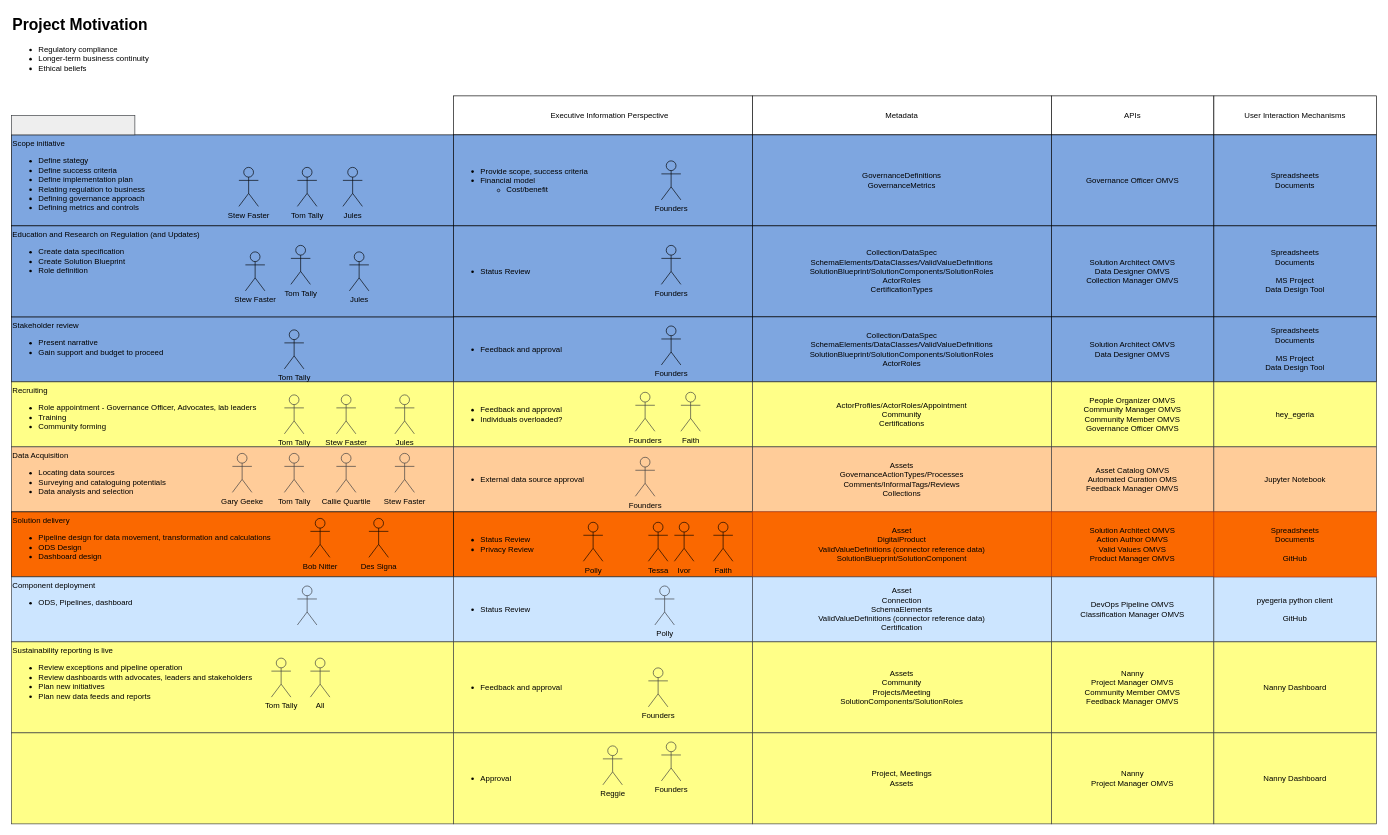
Some shapes in this 1388 by 835 pixel diagram are drawn without their labels. Each missing label, with the centre of its shape:
Lemmie: the point at 307,605
Sustainability report publishing Auditing Report Publishing: the point at 232,778
This is a highly iterative project.: the point at 73,125
